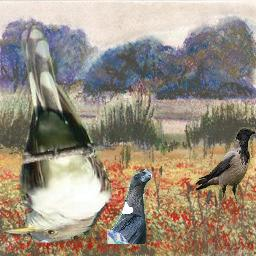Crow: (195, 128, 256, 203), (108, 170, 153, 245)
Cuckoo: (5, 23, 112, 243)
